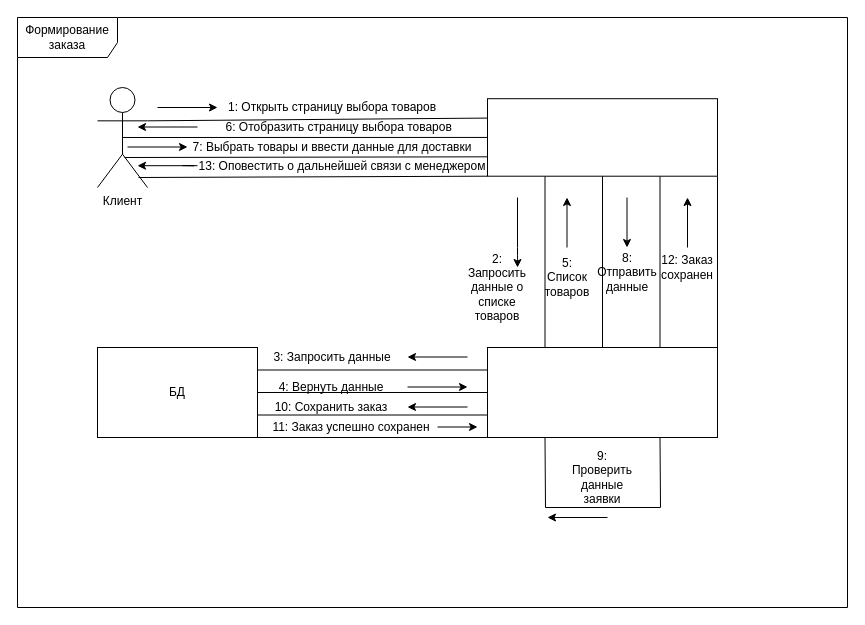
Image size: 865x625. Some labels were removed from this diagram. Each missing label, with the centre of its shape:
"Веб-клиент" belongs at [602,137].
"Сервер" belongs at [602,392].
